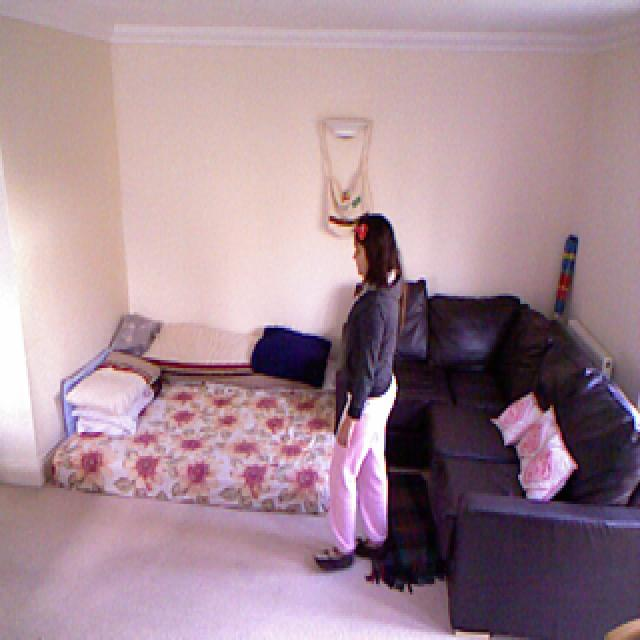standing: (314, 214, 399, 571)
